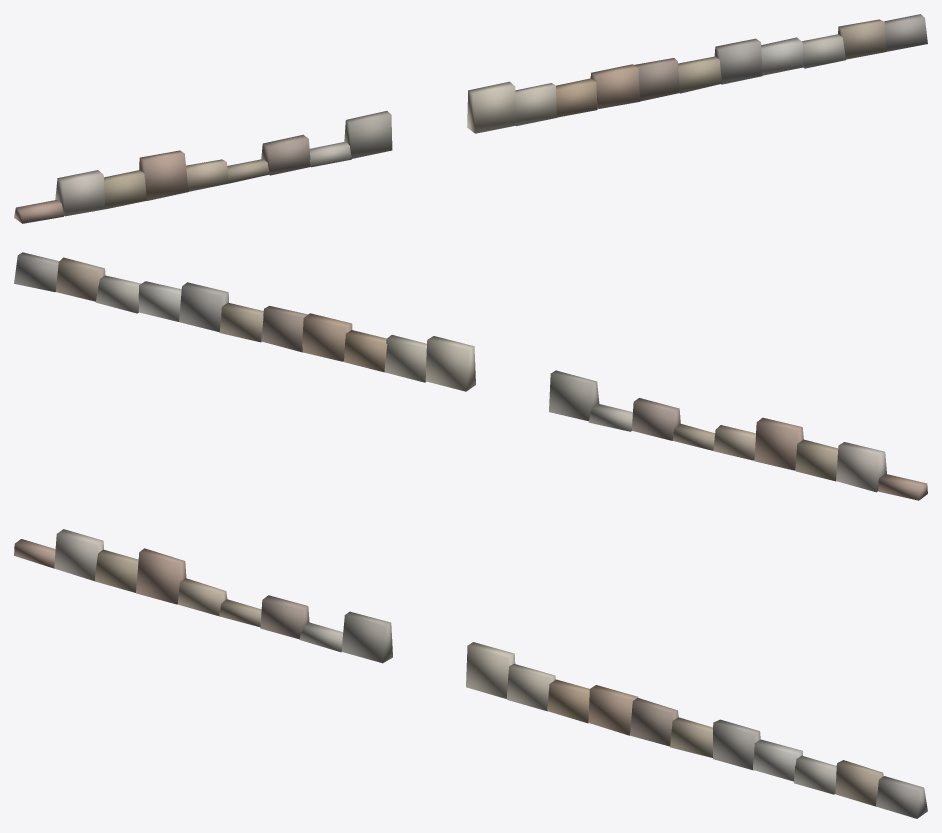
The model's file is farm_12_19_far.glb.
3 views of the same model, one above another, from view 1: azimuth 30°, elevation 25°; view 2: azimuth 150°, elevation 25°; view 3: azimuth 330°, elevation 25° (orthographic). The views are drawn at different scales.
Visible parts, largest first — view 1: geometry_0; view 2: geometry_0; view 3: geometry_0.
Boxes of the visible parts, x1=… form: geometry_0: x1=14, y1=14, x2=927, y2=223; geometry_0: x1=14, y1=252, x2=927, y2=500; geometry_0: x1=14, y1=529, x2=927, y2=818.
Size of the model in its own units: 34.86 by 2.09 by 1.96.
